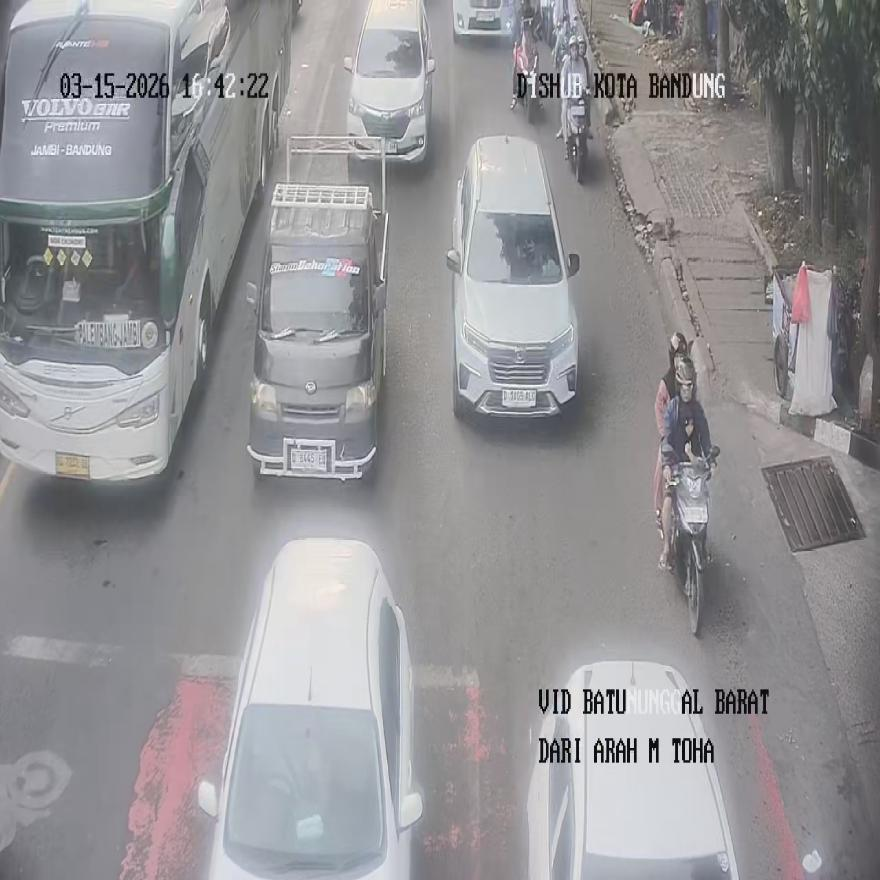Mobil: (198, 537, 424, 878), (244, 134, 388, 480), (525, 660, 740, 879), (446, 134, 580, 418), (343, 0, 434, 178), (453, 0, 512, 38)
bus: (0, 1, 289, 479)
